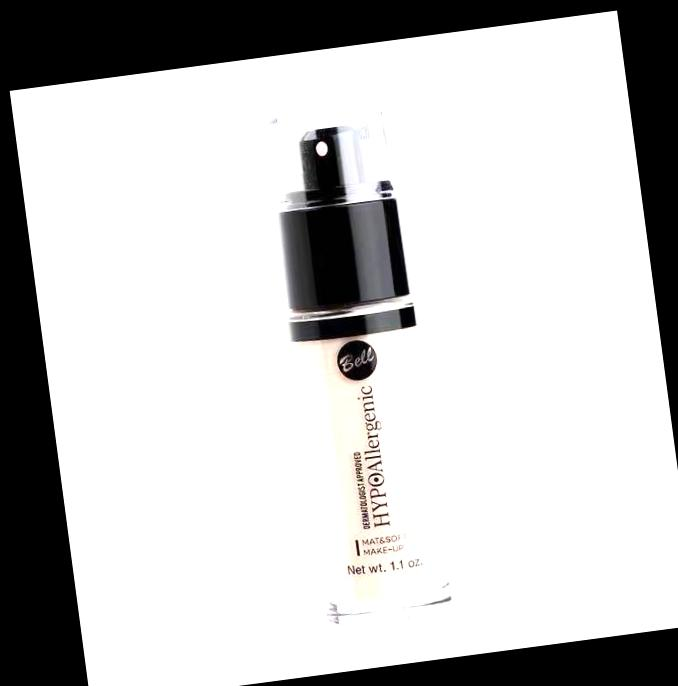cosmetic: (260, 100, 455, 631)
